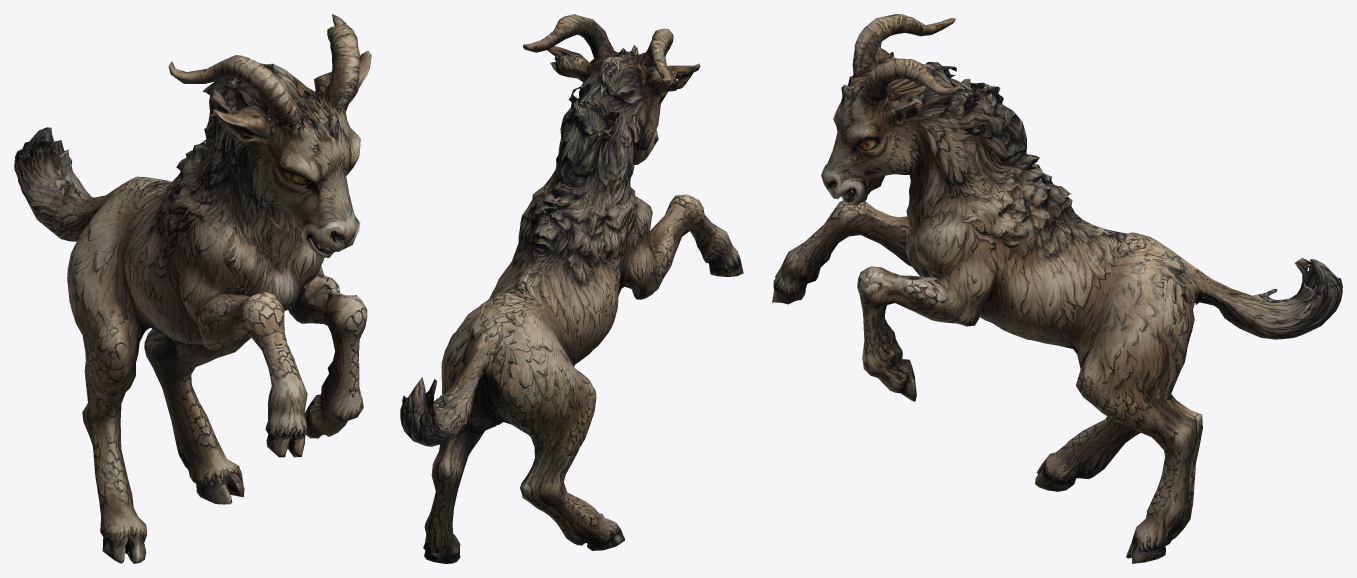
File: Foal.glb
3 renders of one model, left to right at view 1: azimuth 30°, elevation 25°; view 2: azimuth 150°, elevation 25°; view 3: azimuth 270°, elevation 25°, orthographic. The views are drawn at different scales.
Parts seen in each view (by area): view 1: texture_mapping; view 2: texture_mapping; view 3: texture_mapping.
Boxes of the visible parts, box(x1,y1,x2,y2) form: texture_mapping: box(14, 14, 371, 563); texture_mapping: box(400, 14, 743, 563); texture_mapping: box(772, 14, 1342, 563).
Bounding box in the file's own units: 0.3209 × 0.9393 × 0.9879.
1 material, 1 textured.
